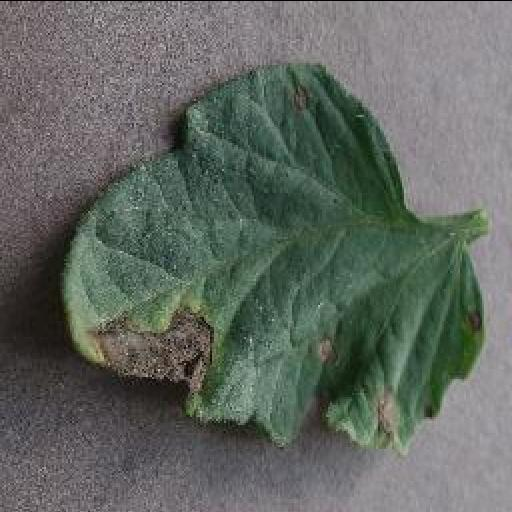Early Blight: (62, 58, 486, 444)
